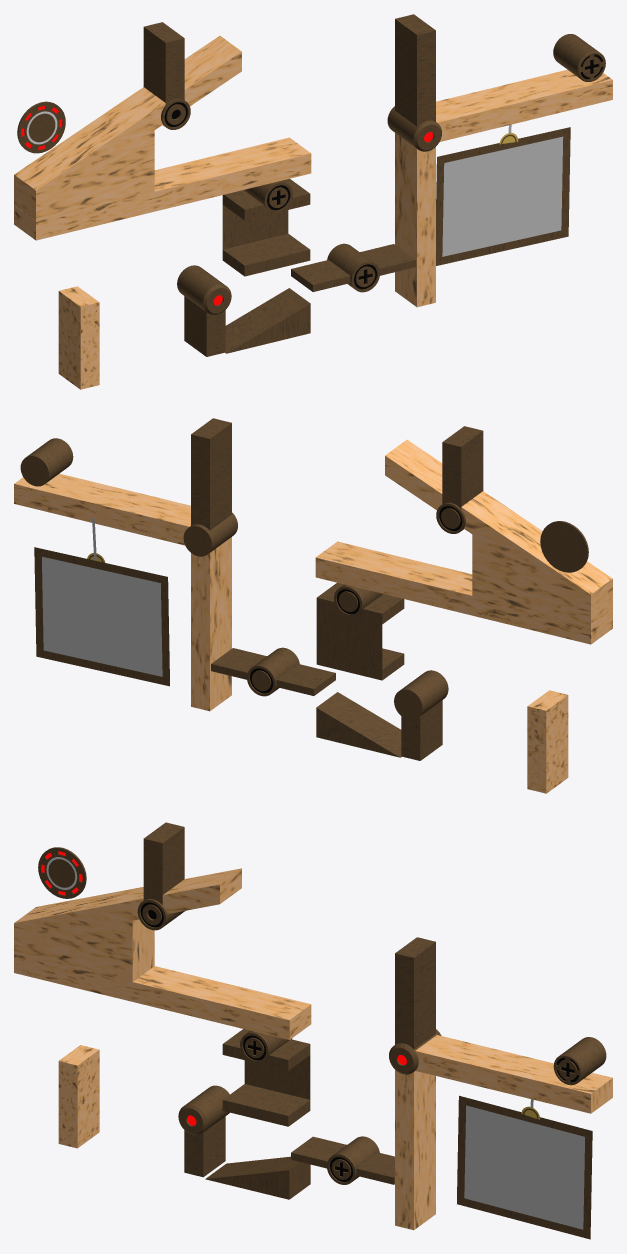
The model's file is level8.fbx.
3 views of the same model, one above another, from view 1: azimuth 30°, elevation 25°; view 2: azimuth 150°, elevation 25°; view 3: azimuth 330°, elevation 25° (orthographic).
Visible parts, largest first — view 1: Sign1.006, Cube.016, RightPerch.001, RightPerch, RightPerch.002, Cube.019, Cube.018, RightPerch.003, Cube.022, Cube.017, Cube.020, TagSensor (+7 smaller); view 2: Sign1.006, Cube.016, RightPerch.001, RightPerch, RightPerch.002, Cube.019, Cube.018, RightPerch.003, Cube.022, Cube.017, Cube.020, TagSensor (+7 smaller); view 3: Sign1.006, Cube.016, RightPerch.001, RightPerch, RightPerch.002, Cube.019, Cube.018, RightPerch.003, Cube.022, Cube.017, TagSensor, Cube.020 (+7 smaller).
Part boxes in pixels (left/top/right/bottom): Sign1.006: left=436, top=127, right=570, bottom=265; Cube.016: left=14, top=35, right=241, bottom=221; RightPerch.001: left=14, top=137, right=311, bottom=240; RightPerch: left=436, top=69, right=612, bottom=141; RightPerch.002: left=395, top=133, right=435, bottom=307; Cube.019: left=222, top=178, right=310, bottom=276; Cube.018: left=395, top=14, right=435, bottom=126; RightPerch.003: left=58, top=286, right=99, bottom=389; Cube.022: left=225, top=288, right=310, bottom=353; Cube.017: left=143, top=22, right=184, bottom=104; Cube.020: left=291, top=244, right=415, bottom=291; TagSensor: left=17, top=101, right=65, bottom=153; Sign1.006: left=34, top=547, right=169, bottom=686; Cube.016: left=385, top=439, right=612, bottom=624; RightPerch.001: left=315, top=541, right=612, bottom=644; RightPerch: left=14, top=473, right=190, bottom=545; RightPerch.002: left=191, top=537, right=231, bottom=711; Cube.019: left=316, top=582, right=404, bottom=680; Cube.018: left=191, top=418, right=231, bottom=530; RightPerch.003: left=527, top=690, right=568, bottom=793; Cube.022: left=316, top=692, right=401, bottom=757; Cube.017: left=442, top=426, right=483, bottom=508; Cube.020: left=211, top=648, right=335, bottom=695; TagSensor: left=540, top=521, right=588, bottom=572; Sign1.006: left=457, top=1095, right=592, bottom=1239; Cube.016: left=14, top=868, right=241, bottom=982; RightPerch.001: left=14, top=953, right=311, bottom=1039; RightPerch: left=415, top=1035, right=612, bottom=1113; RightPerch.002: left=395, top=1070, right=435, bottom=1230; Cube.019: left=222, top=1029, right=310, bottom=1126; Cube.018: left=395, top=937, right=435, bottom=1049; RightPerch.003: left=58, top=1045, right=99, bottom=1148; Cube.022: left=205, top=1156, right=310, bottom=1199; Cube.017: left=143, top=822, right=184, bottom=904; TagSensor: left=38, top=847, right=86, bottom=898; Cube.020: left=291, top=1136, right=394, bottom=1184.
Size of the model in its own units: 6073 by 500 by 3279.
